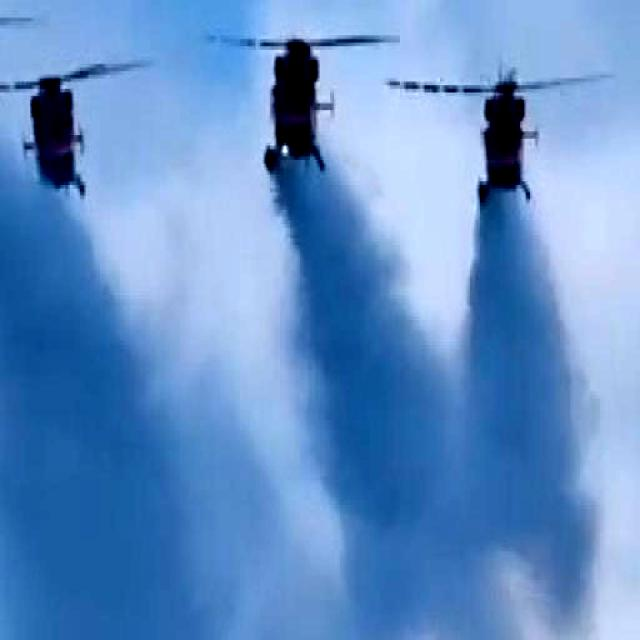drone: (385, 51, 619, 205), (211, 11, 394, 176), (0, 54, 179, 200)
